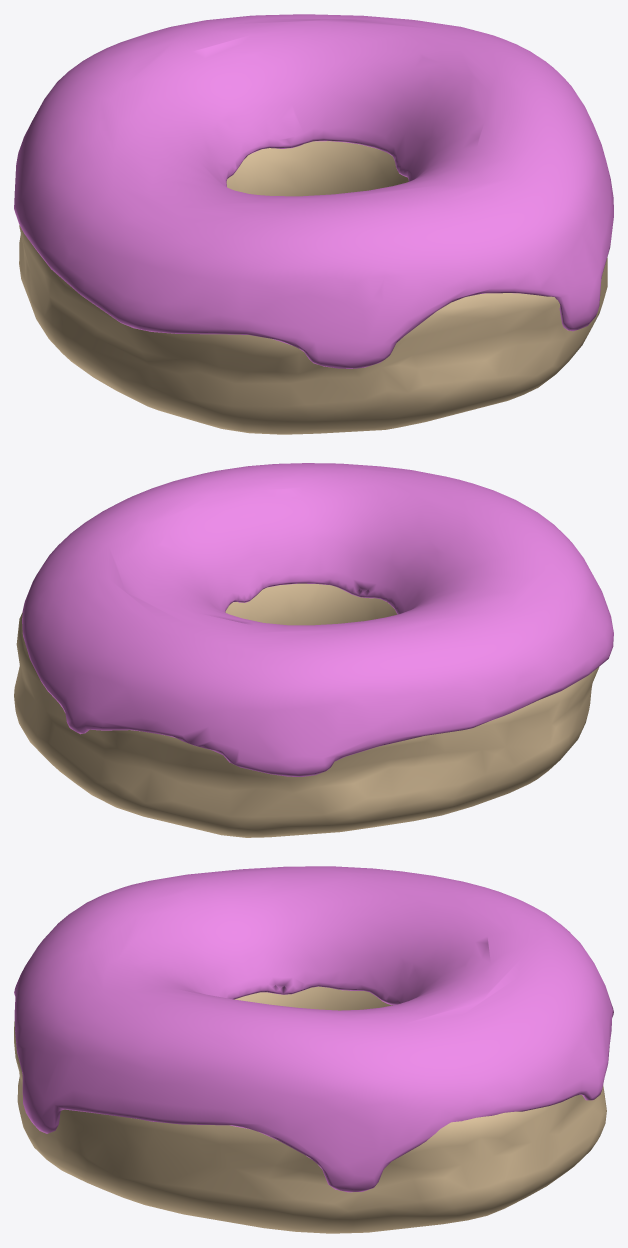
File: donut4.gltf
3 views of the same model, one above another, from view 1: azimuth 30°, elevation 25°; view 2: azimuth 150°, elevation 25°; view 3: azimuth 270°, elevation 25° (orthographic). The views are drawn at different scales.
Visible parts, largest first — view 1: Icing, Donut; view 2: Icing, Donut; view 3: Icing, Donut.
Part boxes in pixels (x1,y1,x2,y2): Icing: [14, 14, 613, 368]; Donut: [19, 141, 607, 434]; Icing: [22, 463, 613, 776]; Donut: [14, 583, 599, 837]; Icing: [14, 866, 613, 1192]; Donut: [14, 986, 606, 1233].
Bounding box in the file's own units: 0.1481 × 0.059 × 0.1514.
